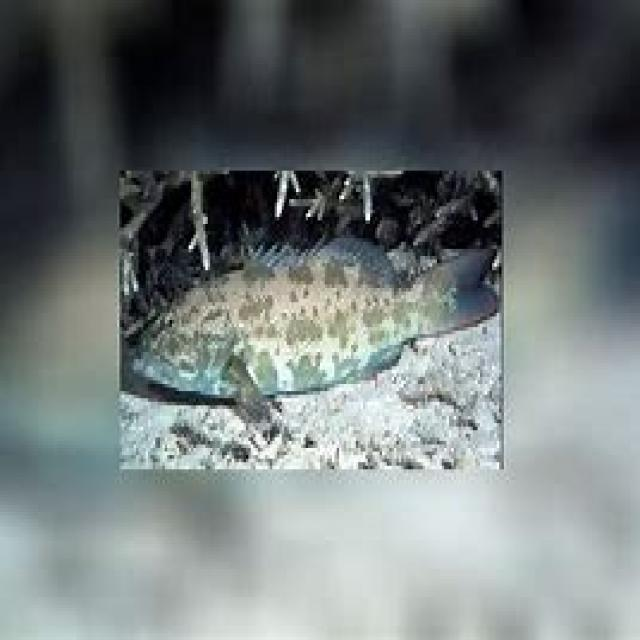Plectropomus-leopardus: (134, 208, 505, 428)
